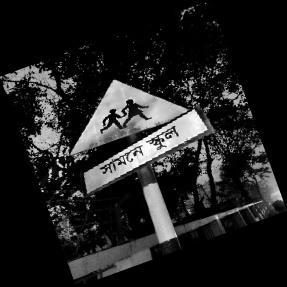School-in-front: (71, 79, 212, 197)
